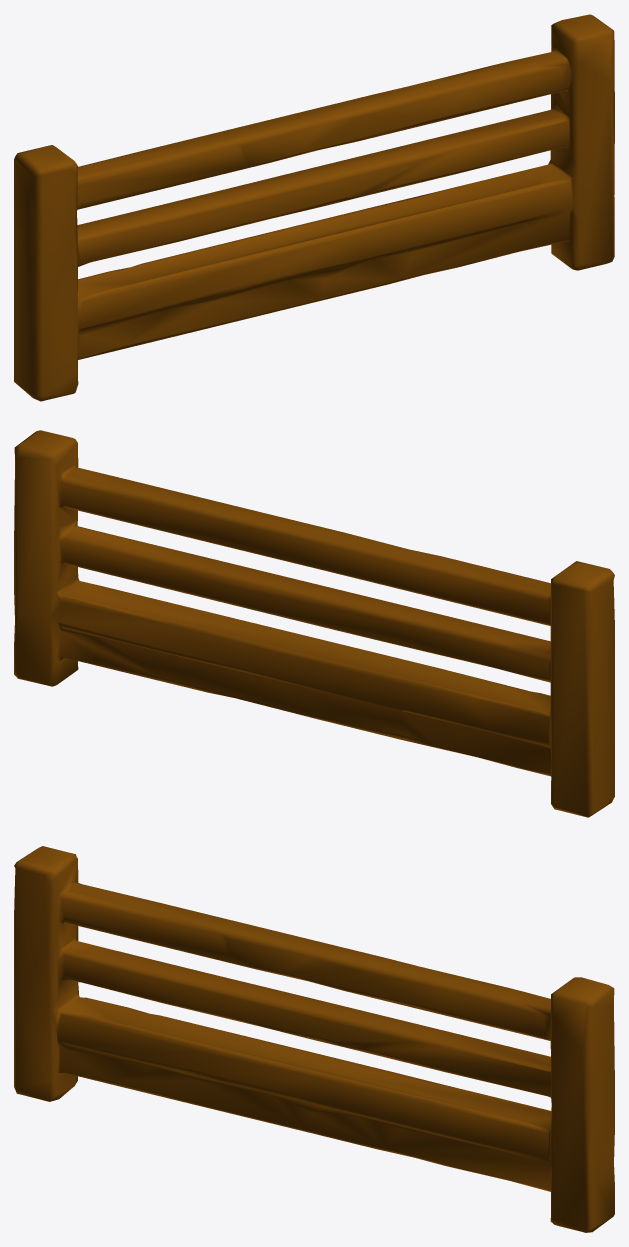
File: gen3d-wooden-fence-lod1.glb
3 views of the same model, one above another, from view 1: azimuth 30°, elevation 25°; view 2: azimuth 150°, elevation 25°; view 3: azimuth 330°, elevation 25° (orthographic).
Visible parts, largest first — view 1: part_0; view 2: part_0; view 3: part_0.
Part boxes in pixels (box(x1,y1,x2,y2)): part_0: box(14, 14, 614, 401); part_0: box(14, 430, 614, 817); part_0: box(14, 846, 614, 1232).
Size of the model in its own units: 2.58 by 0.9999 by 0.2071.
